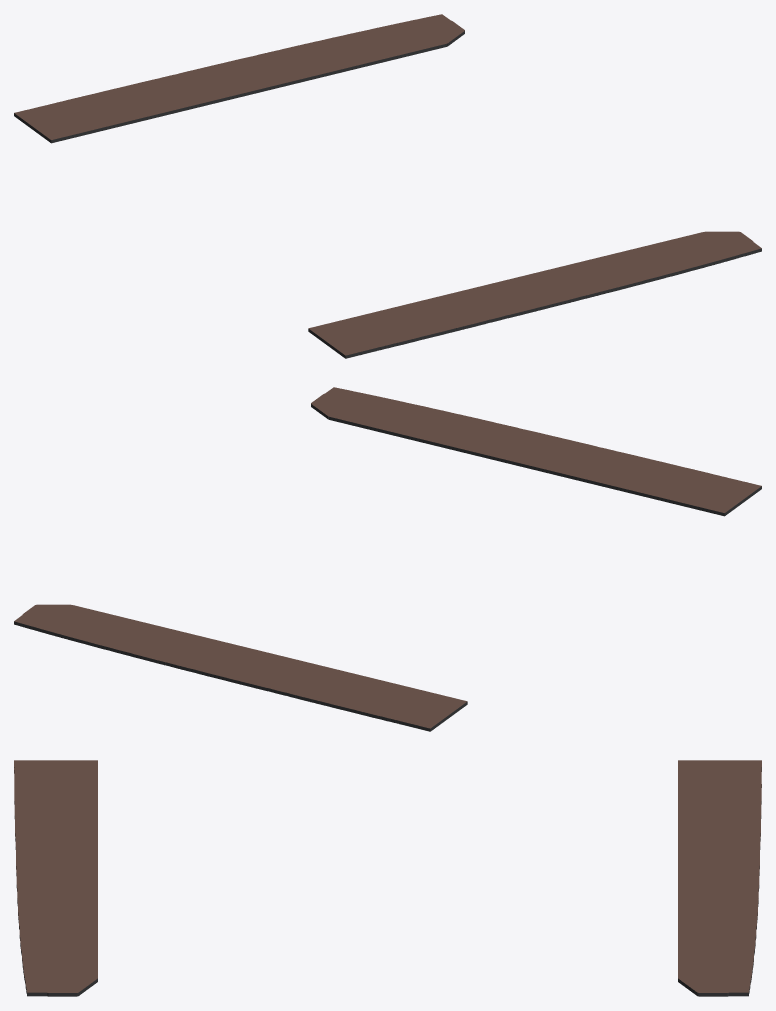
Rendered from side-locker-400.glb.
3 views of the same model, one above another, from view 1: azimuth 30°, elevation 25°; view 2: azimuth 150°, elevation 25°; view 3: azimuth 270°, elevation 25° (orthographic). The views are drawn at different scales.
Parts seen in each view (by area): view 1: xs_lid_side_400_stbd_mesh, xs_lid_side_400_port_mesh; view 2: xs_lid_side_400_port_mesh, xs_lid_side_400_stbd_mesh; view 3: xs_lid_side_400_port_mesh, xs_lid_side_400_stbd_mesh.
Boxes of the visible parts, <box> form: xs_lid_side_400_stbd_mesh: <box>308,231,761,358</box>; xs_lid_side_400_port_mesh: <box>14,14,464,143</box>; xs_lid_side_400_port_mesh: <box>14,604,467,731</box>; xs_lid_side_400_stbd_mesh: <box>311,387,761,516</box>; xs_lid_side_400_port_mesh: <box>678,760,761,996</box>; xs_lid_side_400_stbd_mesh: <box>14,760,97,996</box>.
Size of the model in its own units: 1.2 by 0.00861 by 1.62.
